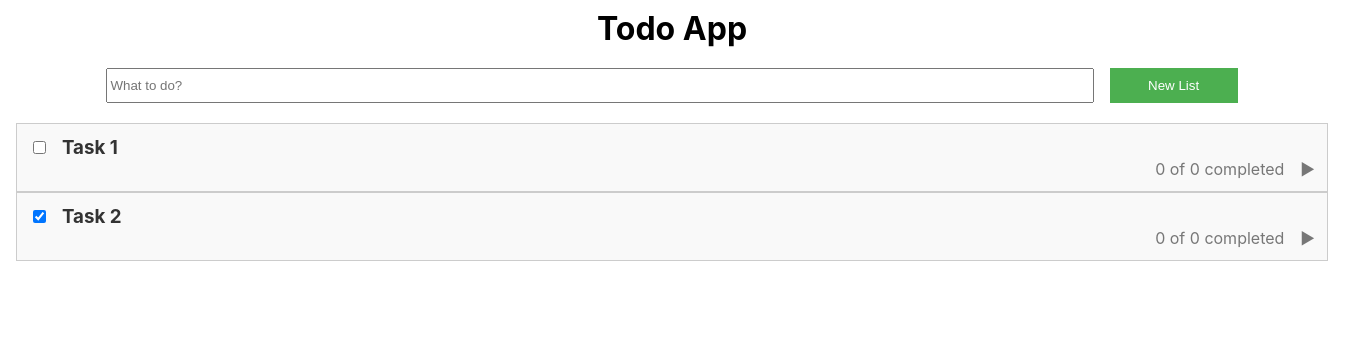
Test case: TodoList component test › adds a new todo
Expected: the heading "Task 1" is shown, [62,136,118,159]
Type "New Task" into the field with placeholder "What to do?" at (600, 86), box [106,68,1094,103]
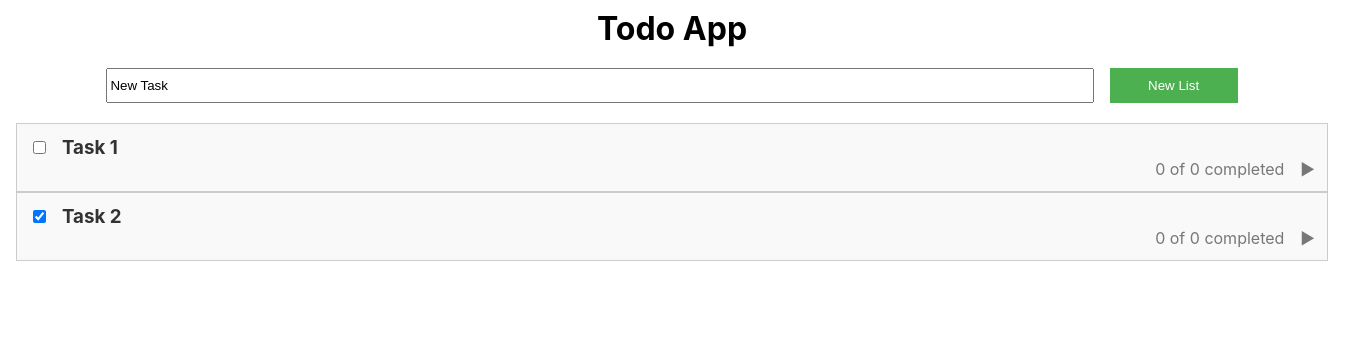
Click the button "New List" at (1174, 86), box [1110,68,1238,103]
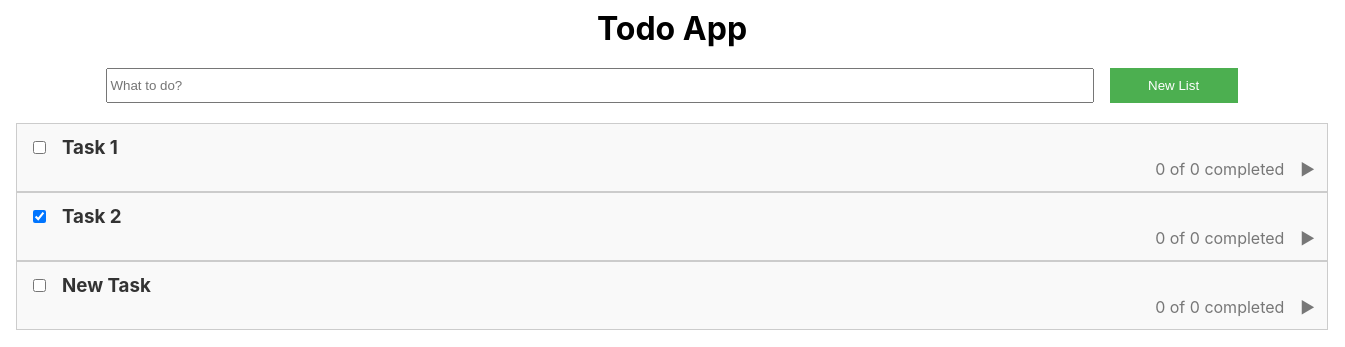
Expected: the heading "New Task" is shown, [62,274,151,297]
